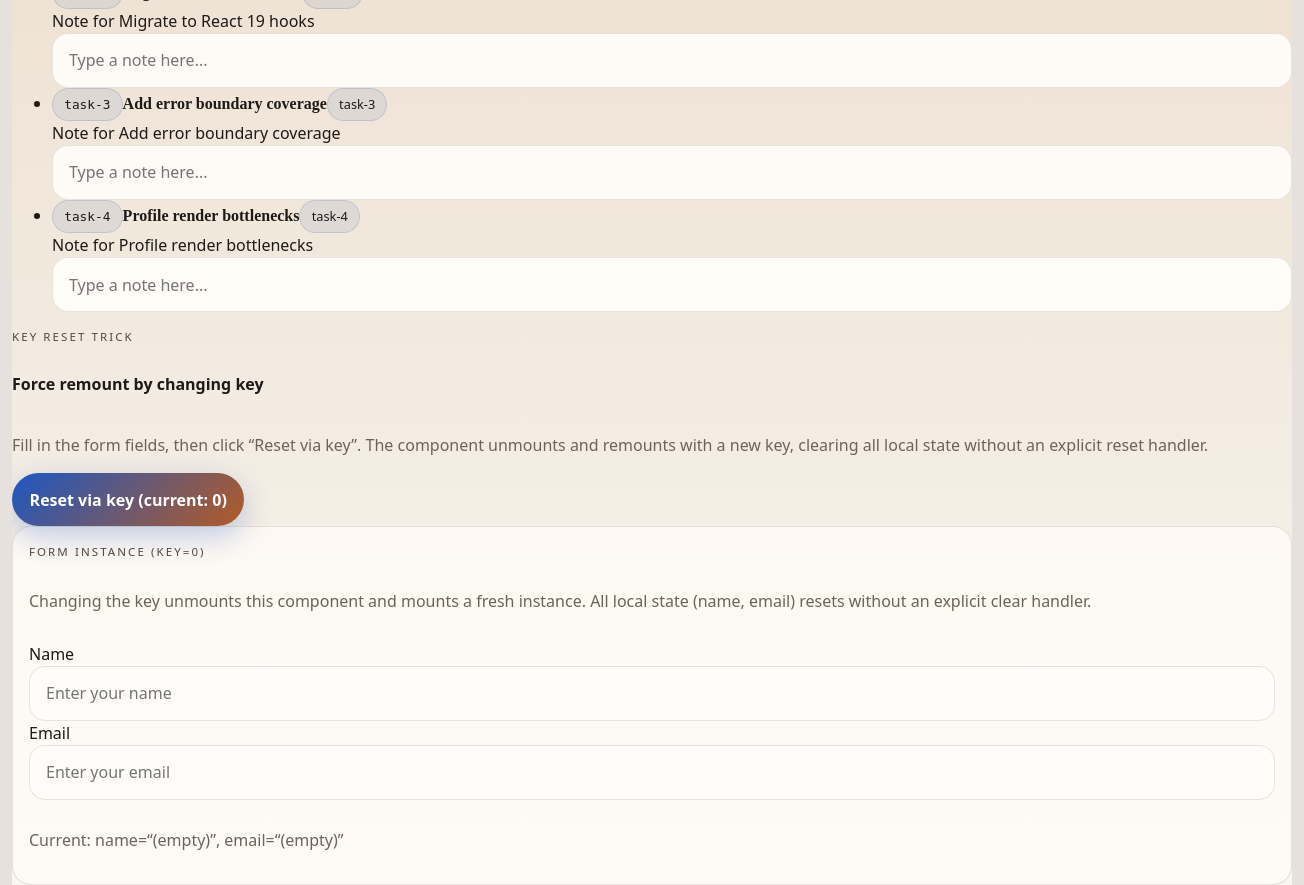
Test: key identity sample › resets the form by changing the component key
(page scrolled)
Type "Avery" into the field labelled "Name". click: (652, 693)
box: [29,666,1275,721]
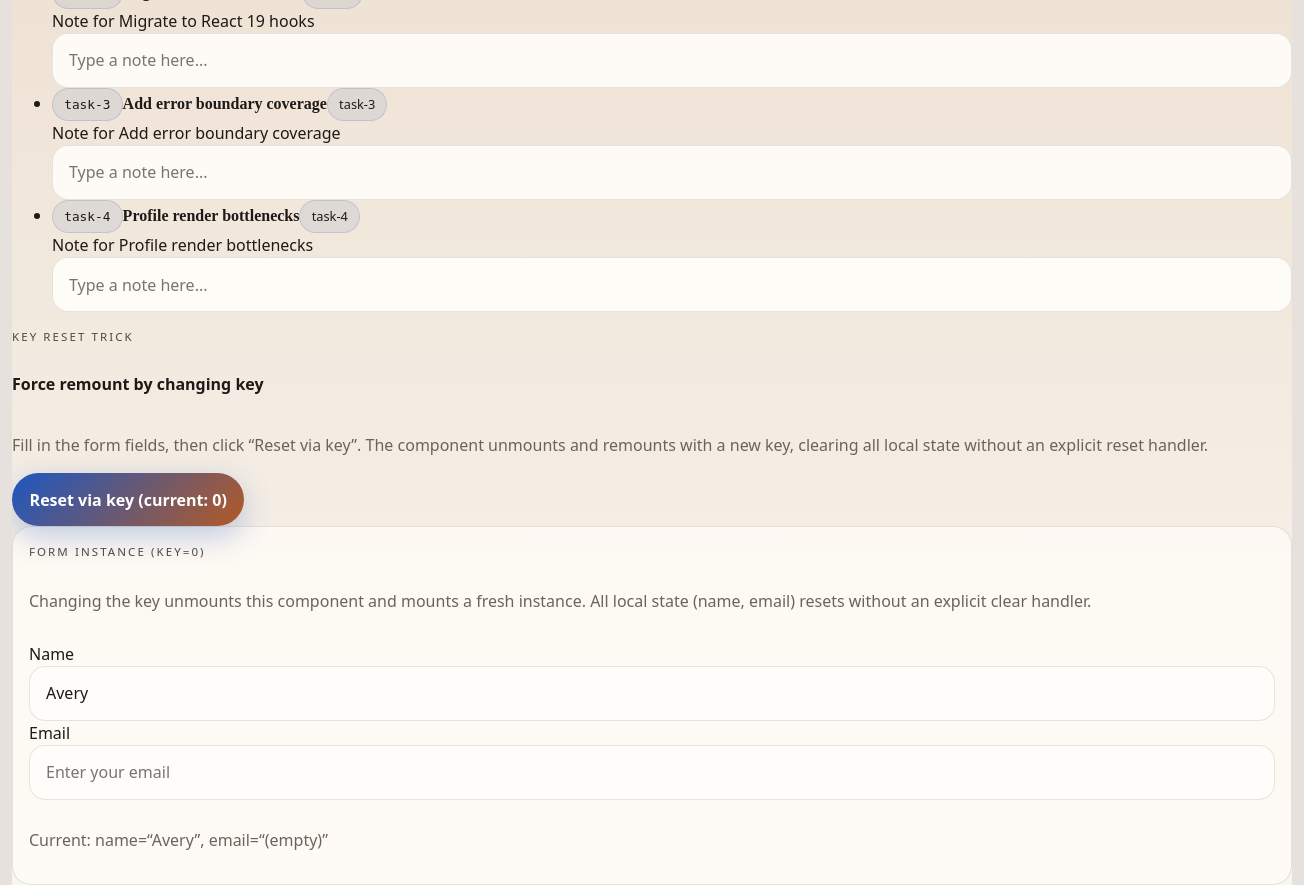
Type "avery@example.com" into the field labelled "Email". click: (652, 772)
box: [29,745,1275,800]
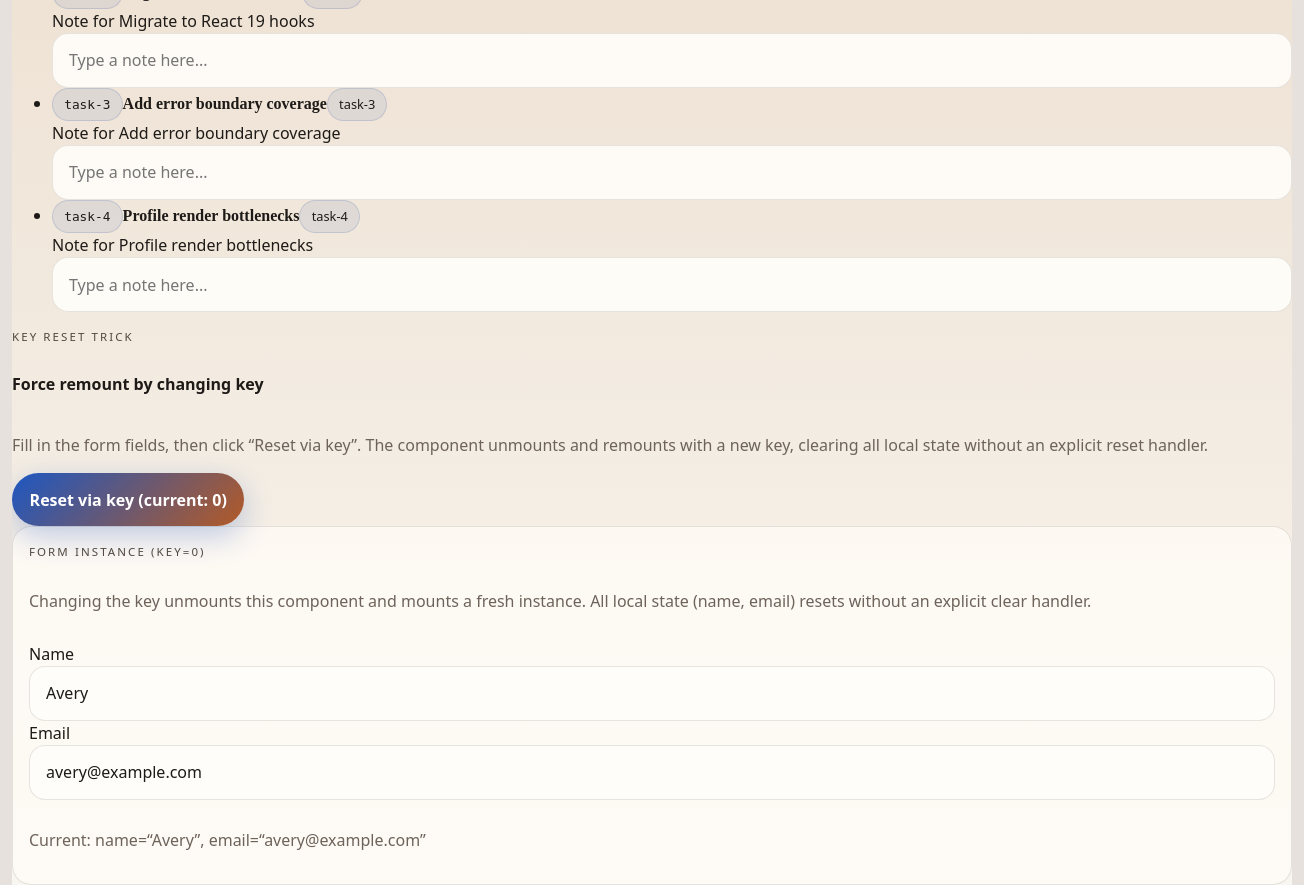
expect the text "Current: name=“Avery”, email=“avery@example.com”" is shown: met, box [29,829,426,851]
Click the button "Reset via key (current: 0)". click: (128, 500)
box: [12,473,244,526]
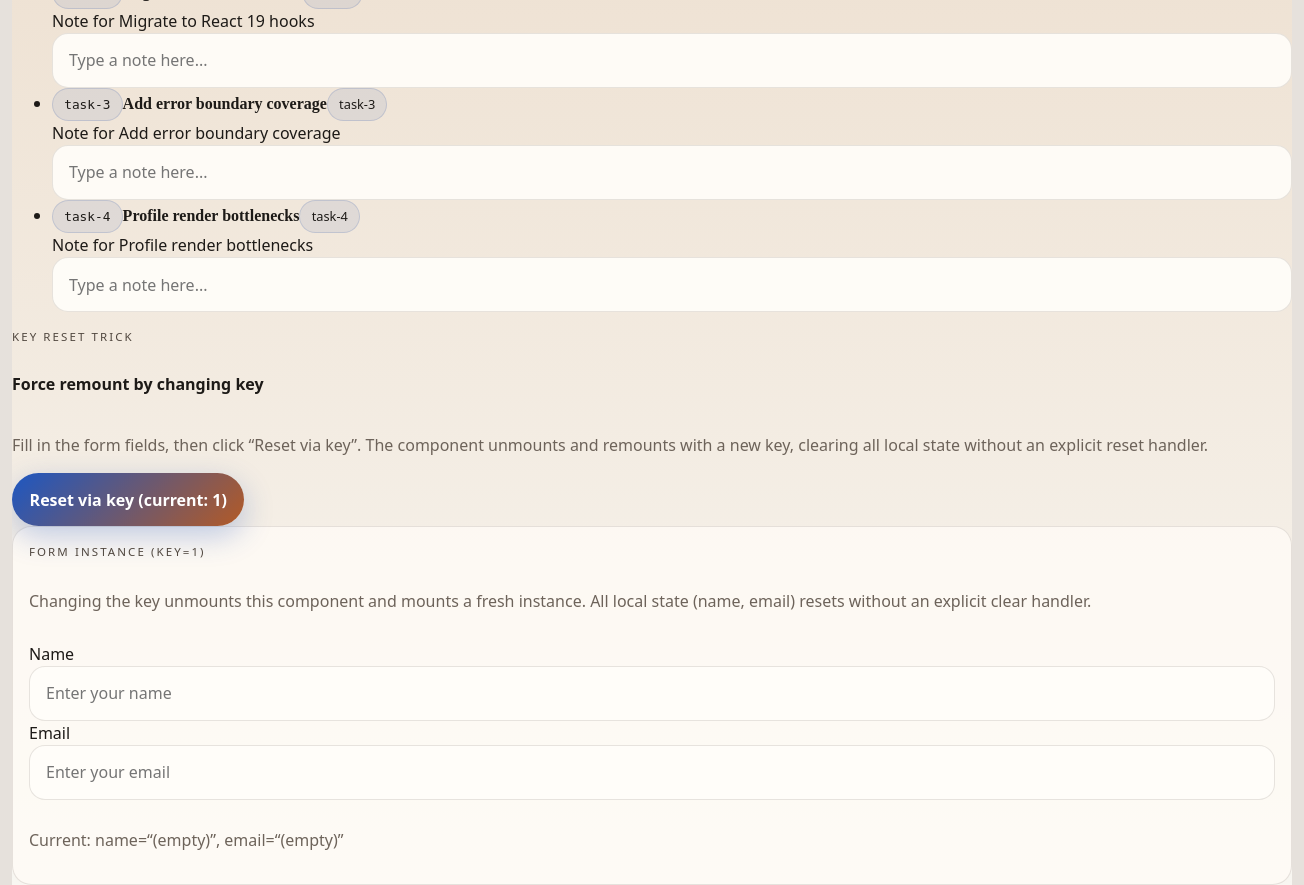
expect the field labelled "Name" is empty: met, box [29,666,1275,721]
expect the field labelled "Email" is empty: met, box [29,745,1275,800]
expect the text "Form instance (key=1)" is shown: met, box [29,544,206,559]
